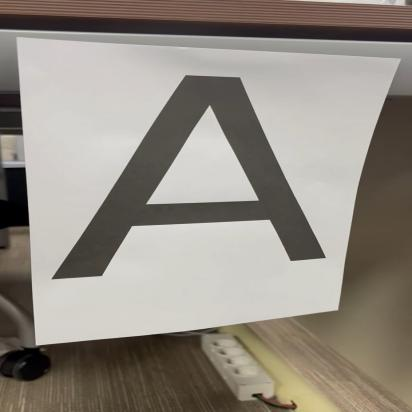seat: (39, 60, 344, 301)
